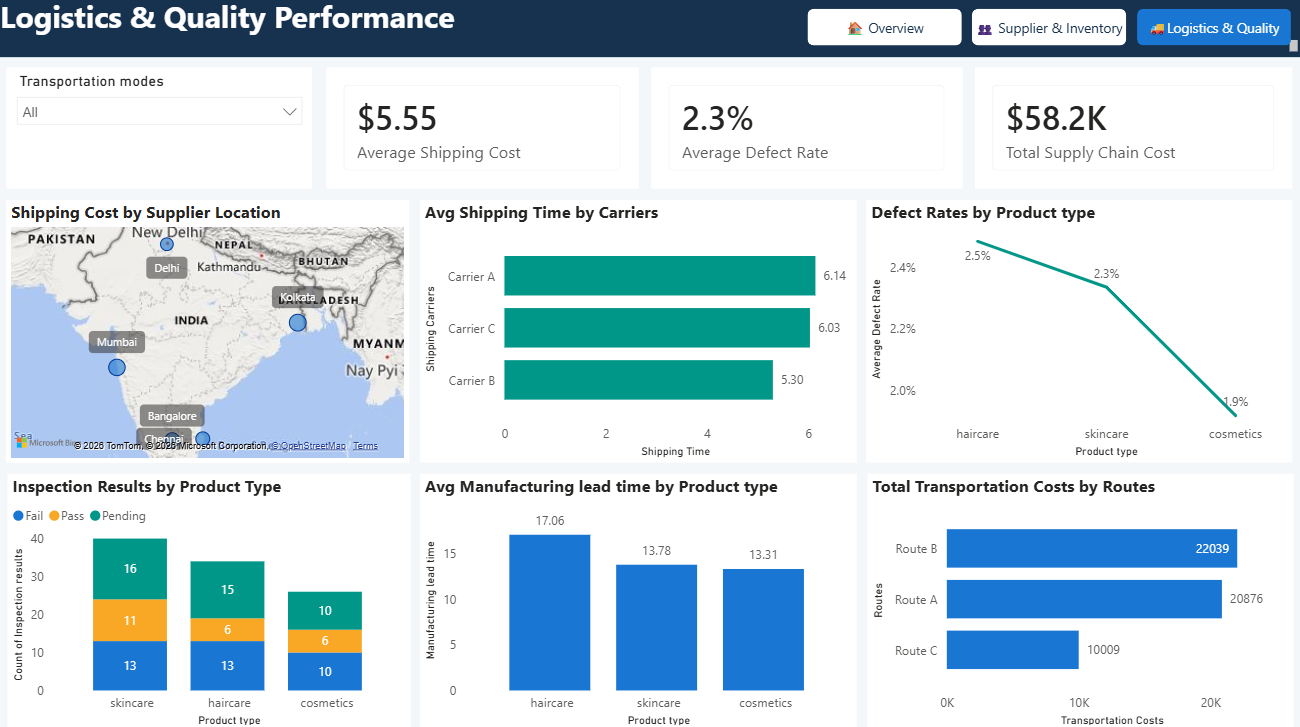

What the dashboard file says about the page in this screenshot:
{"tool":"powerbi","page":{"name":"🚚Logistics & Quality","canvas":[1280,720],"ordinal":2},"visuals":[{"type":"textbox","title":"Logistics & Quality Performance","box":[0,0,1279.7,60.6],"z":0},{"type":"pageNavigator","box":[795,13,474.7,36.1],"z":1000},{"type":"cardVisual","fields":{"Data":["Measure Table.Average Shipping Cost"]},"box":[324.1,70.9,305.7,118.6],"z":2000},{"type":"cardVisual","fields":{"Data":["Measure Table.Average Defect Rate"]},"box":[642,70.9,304.5,118.6],"z":3000},{"type":"cardVisual","fields":{"Data":["Measure Table.Total Supply Chain Cost"]},"box":[958.7,70.9,310.6,118.6],"z":4000},{"type":"map","title":"Shipping Cost by Supplier Location","fields":{"Category":["supply_chain_data.Location"],"Size":["Sum(supply_chain_data.Shipping costs)"]},"box":[11.5,200.5,393.9,256.8],"z":5000},{"type":"clusteredBarChart","title":"Avg Shipping Time by Carriers","fields":{"Category":["supply_chain_data.Shipping carriers"],"Y":["Avg(supply_chain_data.Shipping times)"]},"box":[415.5,200.5,427.1,256.8],"z":6000},{"type":"lineChart","title":"Defect Rates by Product type","fields":{"Category":["supply_chain_data.Product type"],"Y":["Measure Table.Average Defect Rate"]},"box":[852.7,200.5,417,256.8],"z":7000},{"type":"columnChart","title":"Inspection Results by Product Type","fields":{"Category":["supply_chain_data.Product type"],"Series":["supply_chain_data.Inspection results"],"Y":["CountNonNull(supply_chain_data.Inspection results)"]},"box":[12,468,394,252],"z":8000},{"type":"columnChart","title":"Avg Manufacturing lead time by Product type","fields":{"Category":["supply_chain_data.Product type"],"Y":["Avg(supply_chain_data.Manufacturing lead time)"]},"box":[416,468,427,252],"z":9000},{"type":"barChart","title":"Total Transportation Costs by Routes","fields":{"Category":["supply_chain_data.Routes"],"Y":["Sum(supply_chain_data.Costs)"]},"box":[853,468,417,252],"z":10000},{"type":"slicer","fields":{"Values":["supply_chain_data.Transportation modes"]},"box":[11,70.9,299.6,118.6],"z":11000}]}

Visuals, with their boxes in screenshot pixels (x1, y1, x2, y2), scaled from the page's 1280x720 canvas onto the 1300x727 screenshot:
"Logistics & Quality Performance" textbox: 0 0 1299 61
pageNavigator: 807 13 1290 50
cardVisual - Measure Table.Average Shipping Cost: 329 72 640 191
cardVisual - Measure Table.Average Defect Rate: 652 72 961 191
cardVisual - Measure Table.Total Supply Chain Cost: 974 72 1289 191
"Shipping Cost by Supplier Location" map: 12 202 412 462
"Avg Shipping Time by Carriers" clusteredBarChart: 422 202 856 462
"Defect Rates by Product type" lineChart: 866 202 1290 462
"Inspection Results by Product Type" columnChart: 12 473 412 726
"Avg Manufacturing lead time by Product type" columnChart: 422 473 856 726
"Total Transportation Costs by Routes" barChart: 866 473 1290 726
slicer - supply_chain_data.Transportation modes: 11 72 315 191
